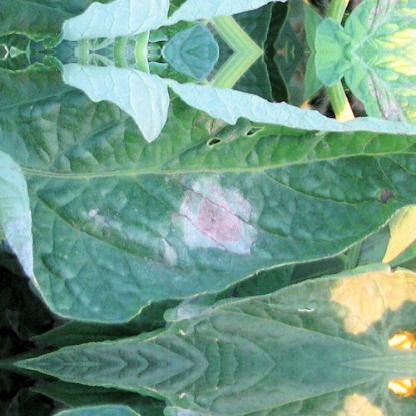Late-Blight: (3, 63, 415, 343)
